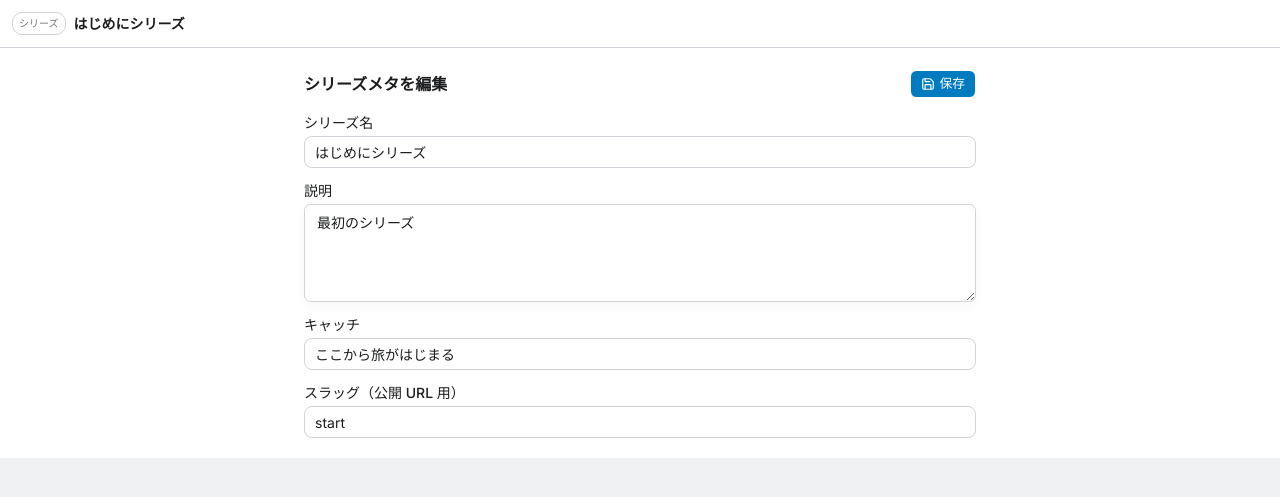
Scenario: SeriesMetaView › 不正な slug は保存を拒否する
The image size is (1280, 497).
Replace the text in the field labelled "スラッグ（公開 URL 用）" with "Git基礎" at (640, 422), box 304,406 -> 976,438
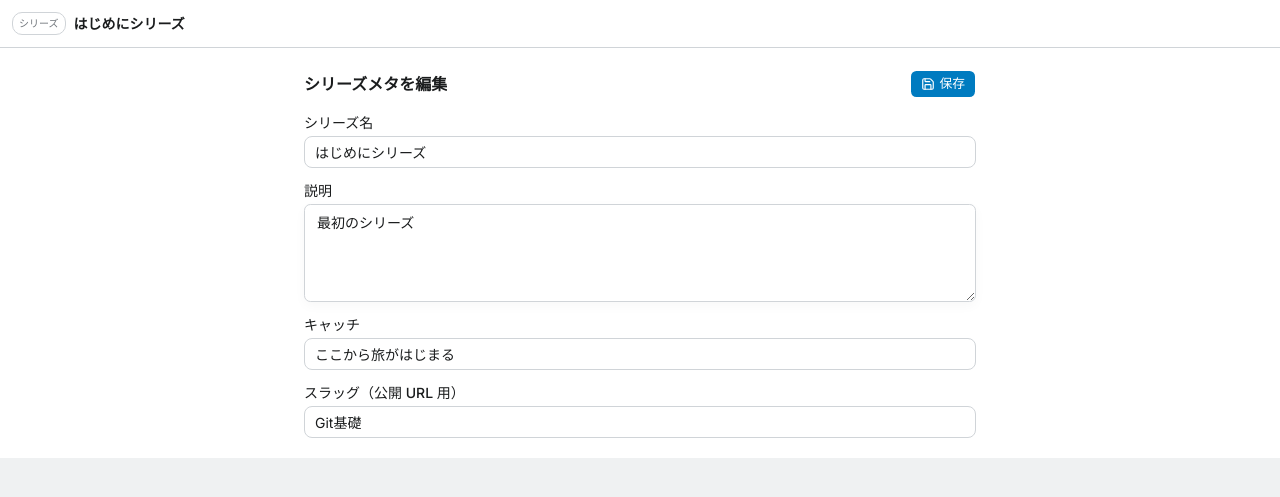
Click the button "保存" at (943, 84), box 910,70 -> 976,98
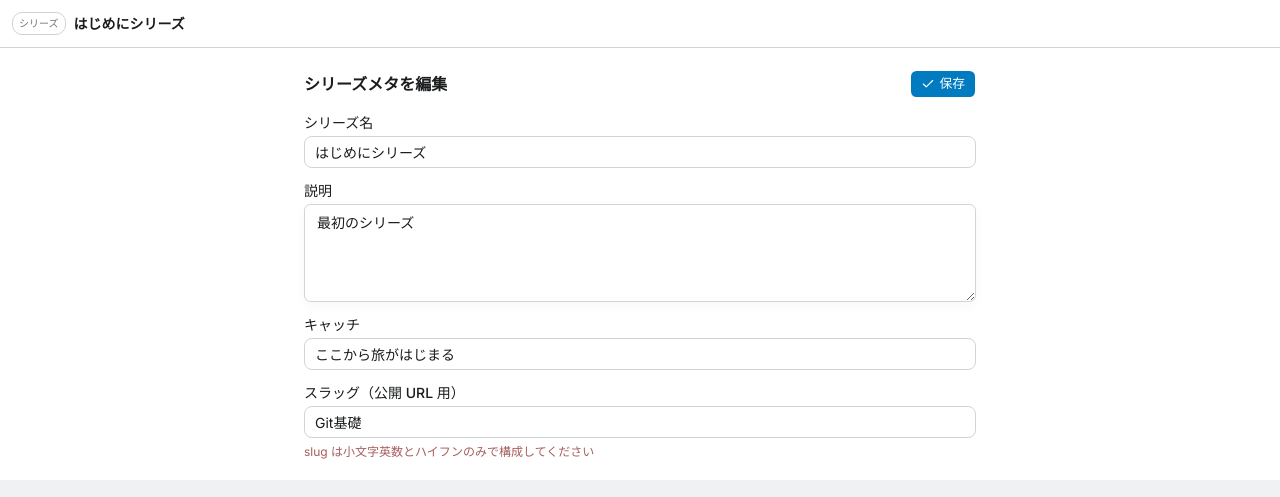
Check: the text "slug は小文字英数とハイフンのみで構成してください" is shown, box 304,444 -> 594,459
